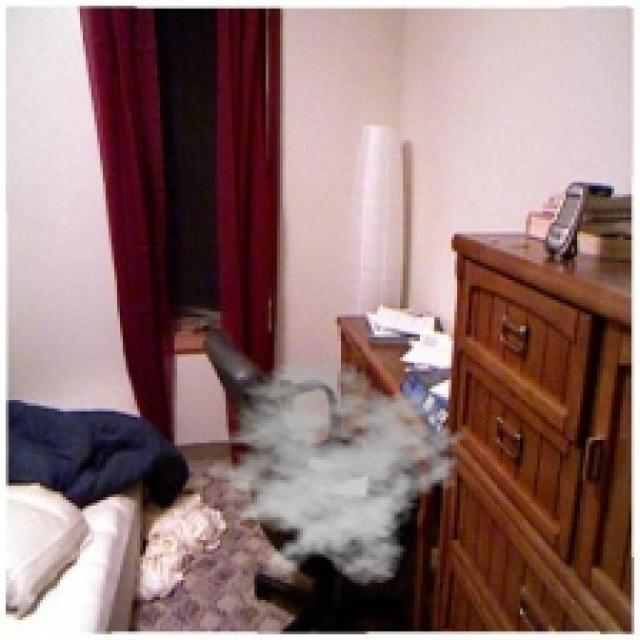Smoke: (188, 357, 468, 586)
